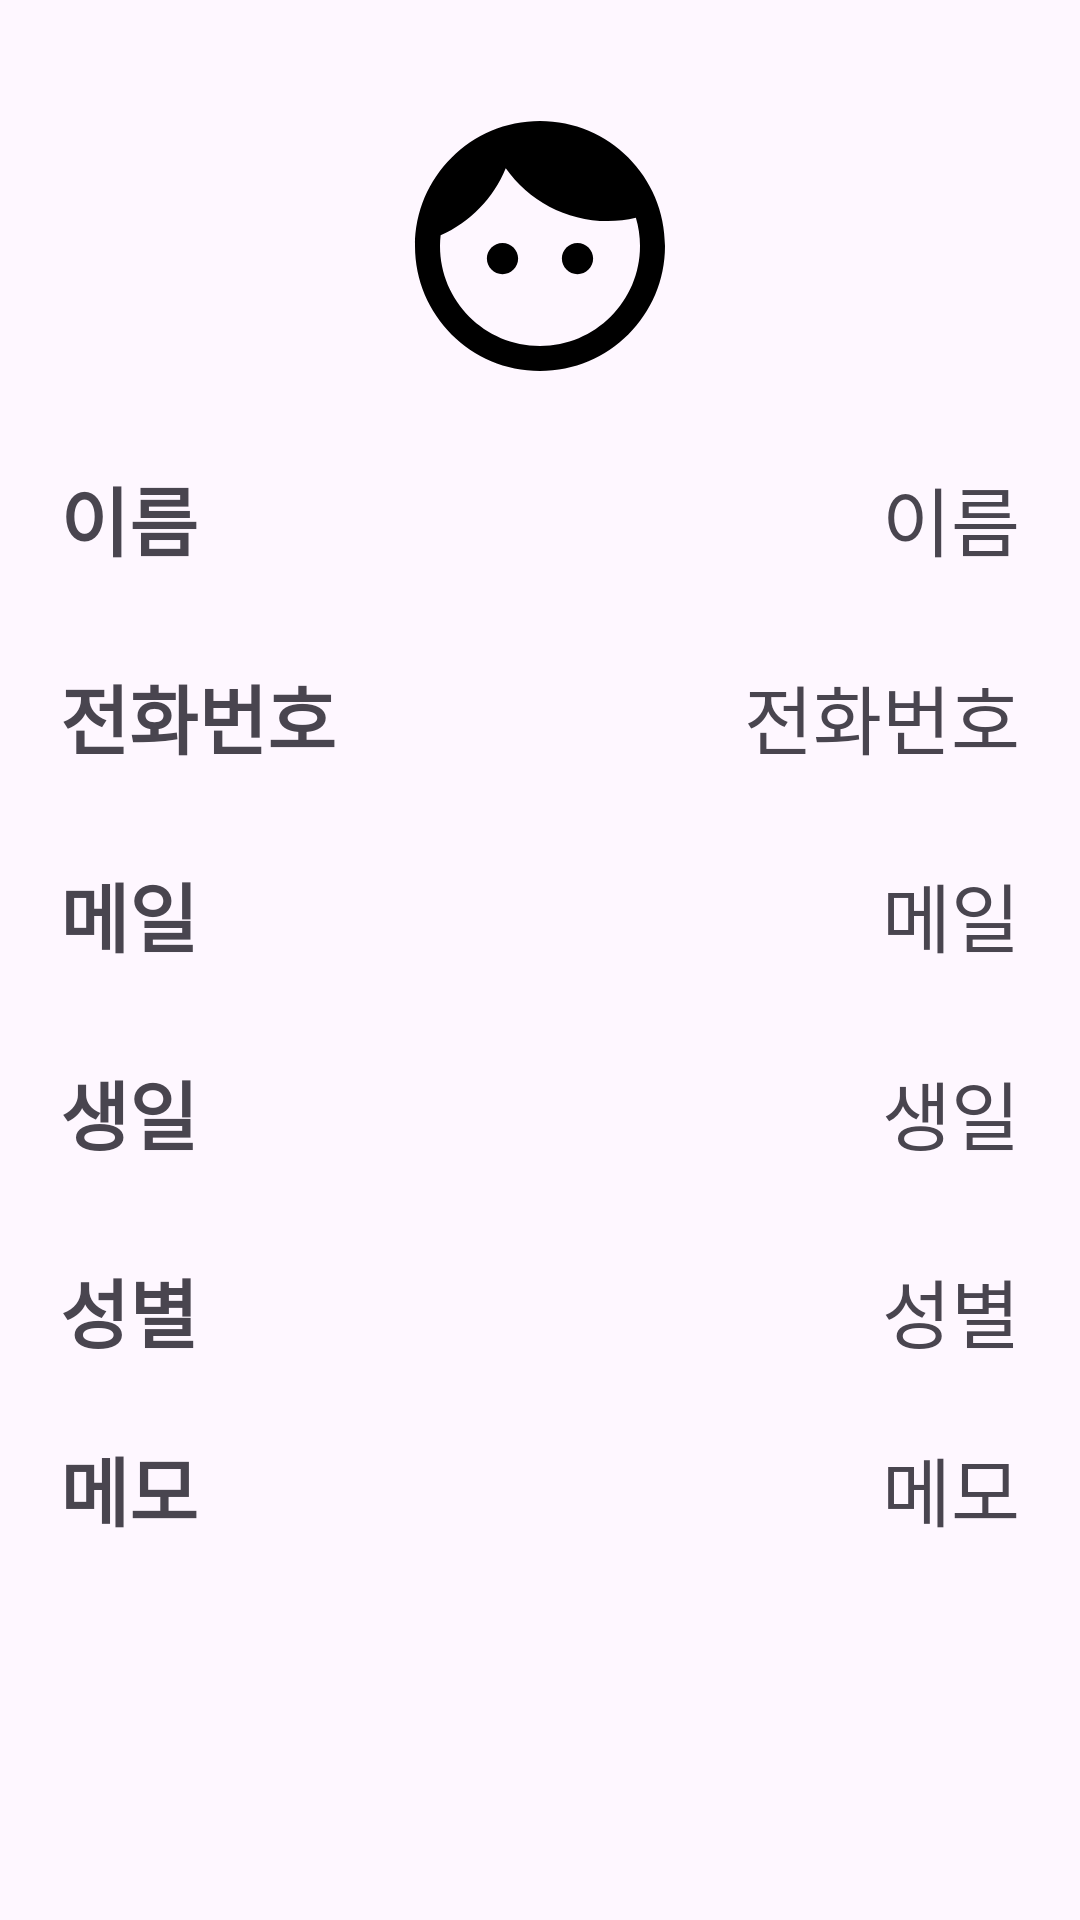

Named icons in this screenshot (1080w x 1920h) and their bounding boxes, {"x1": x1, "y1": y1, "x2": x2, "y2": y2}:
face: {"x1": 415, "y1": 121, "x2": 665, "y2": 371}
